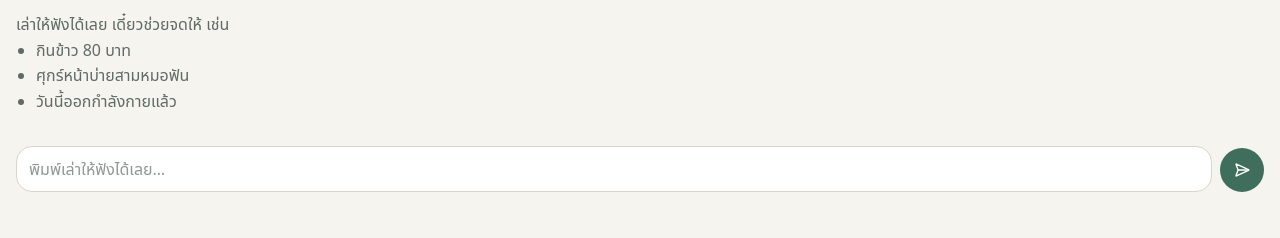
it: failure restores the text and alerts, nothing lost
The image size is (1280, 238).
Expected: the list is shown, [16,13,229,112]
Type "ซื้อนม" into the text box labelled "พิมพ์เล่าให้ฟังได้เลย…". click: (614, 169)
box: [16,146,1212,192]
Then press Enter
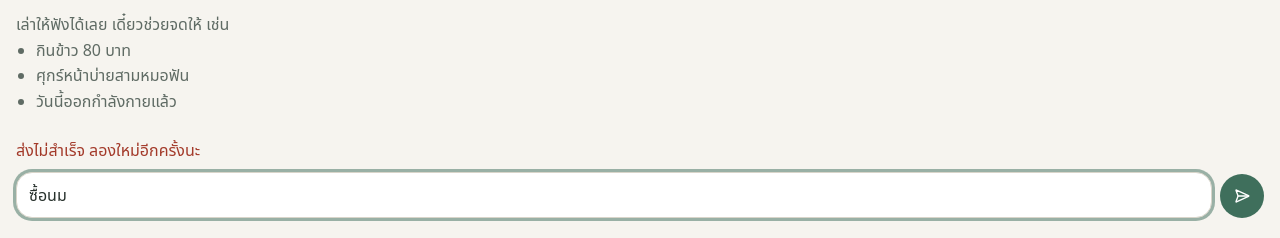
Expected: the message reads "ส่งไม่สำเร็จ ลองใหม่อีกครั้งนะ", [16,139,200,161]
